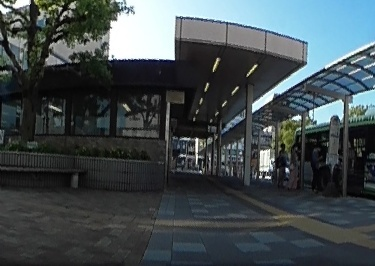person: (309, 142, 325, 190), (275, 141, 288, 192), (287, 142, 300, 188)
